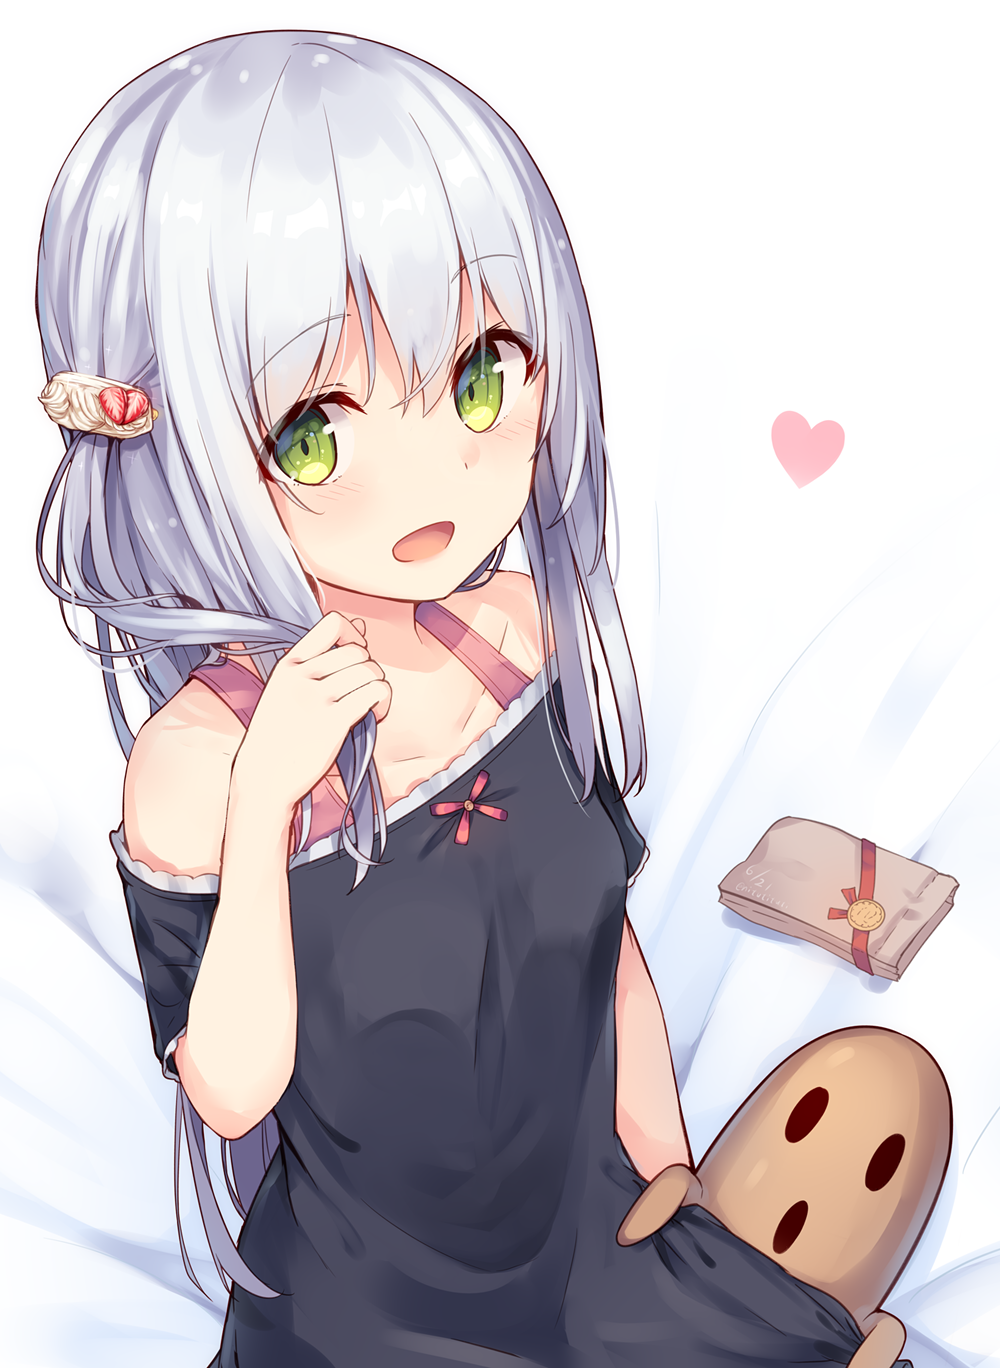纸片人正脸: (45, 13, 612, 615)
